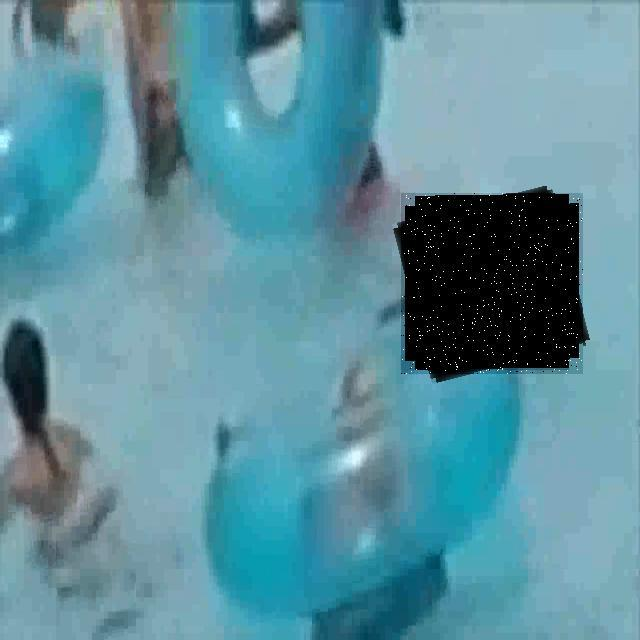Out of Water: (401, 193, 583, 374)
